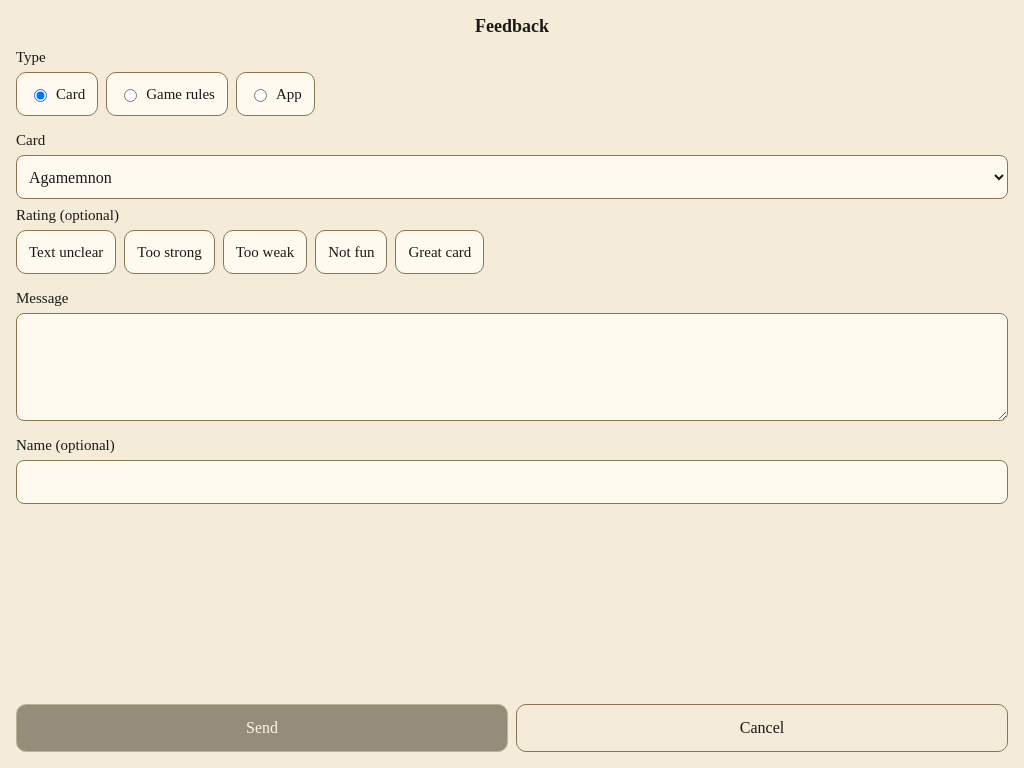
Test case: a rating enables send, and a second tap removes it
Expected: the button "Send" is disabled, left=16, top=704, right=508, bottom=752
Click the button "Too strong" at (170, 252), box left=124, top=230, right=215, bottom=274
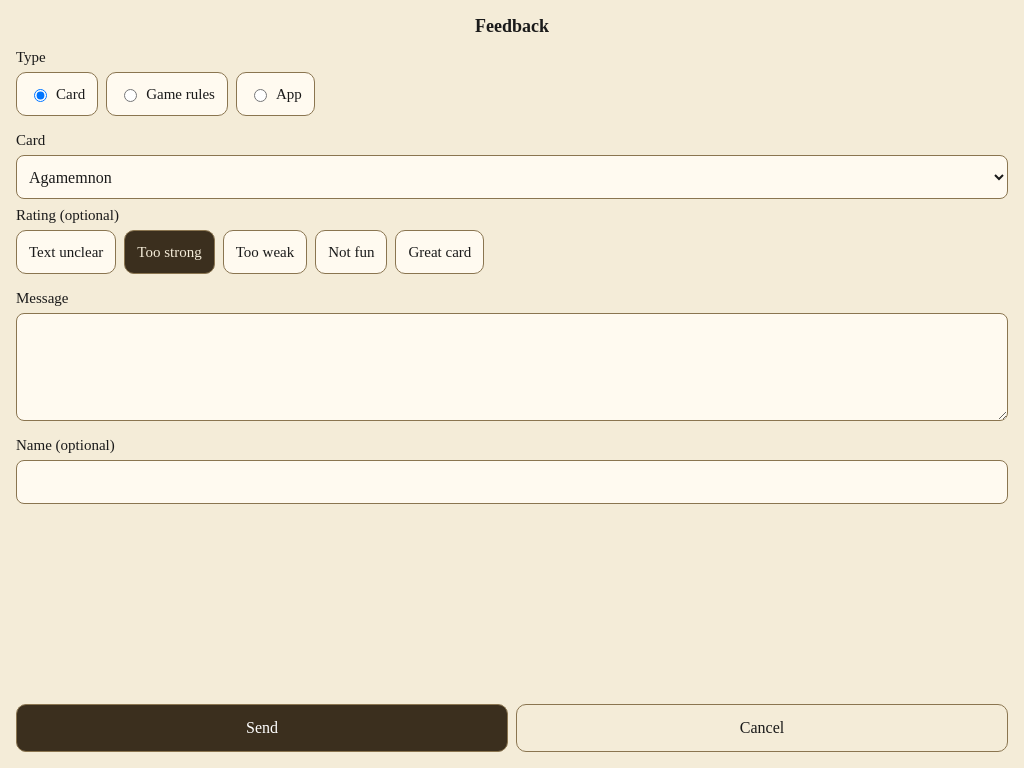
Result: the button "Send" is enabled at left=16, top=704, right=508, bottom=752
Click the button "Too strong" at (170, 252), box left=124, top=230, right=215, bottom=274
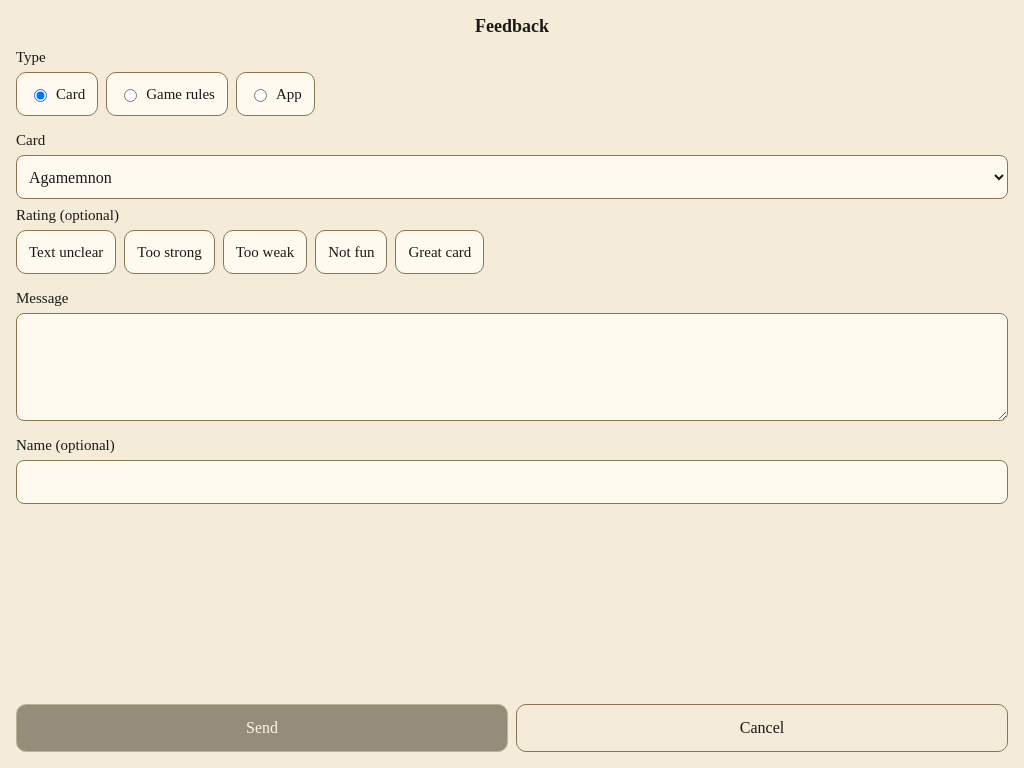
Result: the button "Send" is disabled at left=16, top=704, right=508, bottom=752
